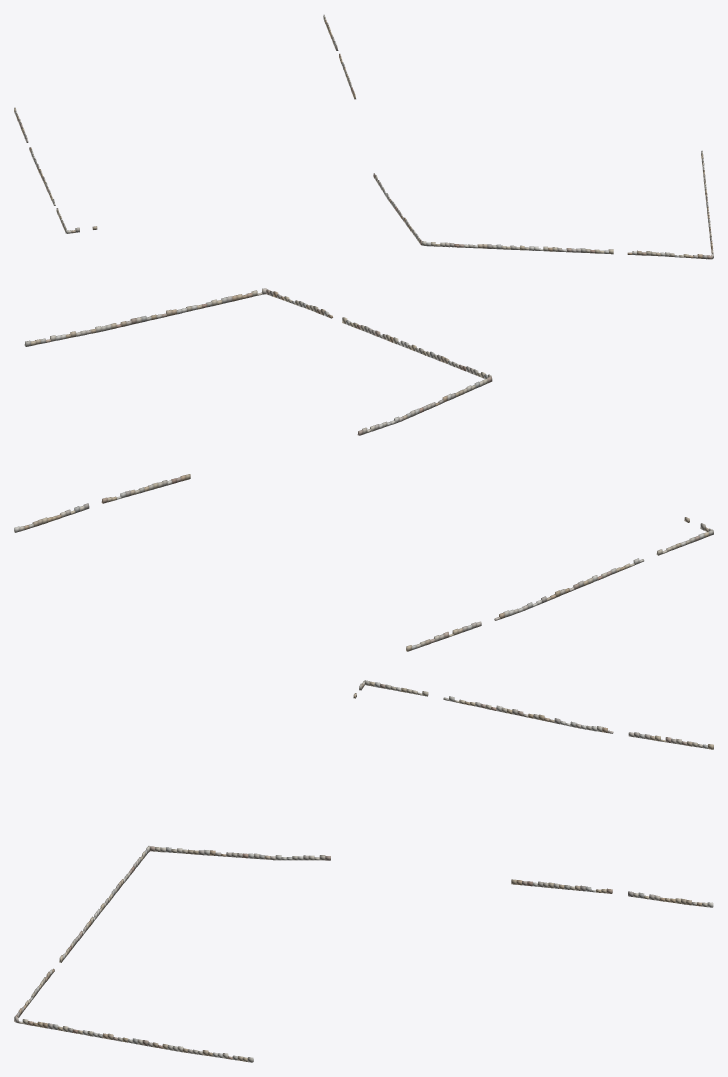
Rendered from farm_-11_-8_far.glb.
3 renders of one model, top to bottom at view 1: azimuth 30°, elevation 25°; view 2: azimuth 150°, elevation 25°; view 3: azimuth 270°, elevation 25°, orthographic. The views are drawn at different scales.
Parts seen in each view (by area): view 1: geometry_0; view 2: geometry_0; view 3: geometry_0.
Part boxes in pixels (box(x1,y1,x2,y2)): geometry_0: box(14, 14, 713, 259); geometry_0: box(14, 288, 713, 651); geometry_0: box(14, 680, 713, 1062).
Bounding box in the file's own units: 229 × 19.76 × 198.
